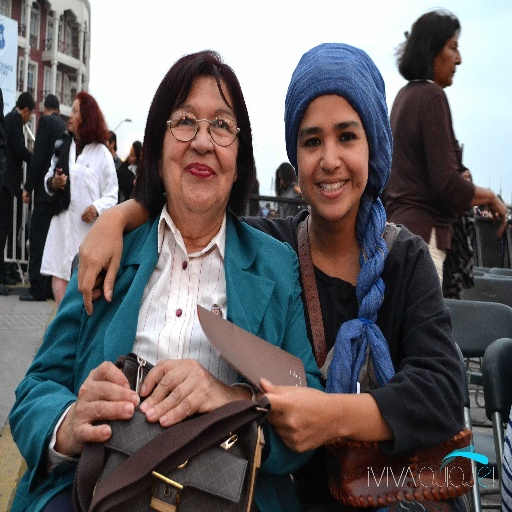hand: (55, 191, 132, 314), (139, 357, 242, 427), (254, 375, 340, 452), (68, 359, 139, 440), (487, 197, 508, 236), (79, 201, 97, 223), (52, 171, 68, 190), (21, 187, 30, 204), (292, 183, 302, 194)
